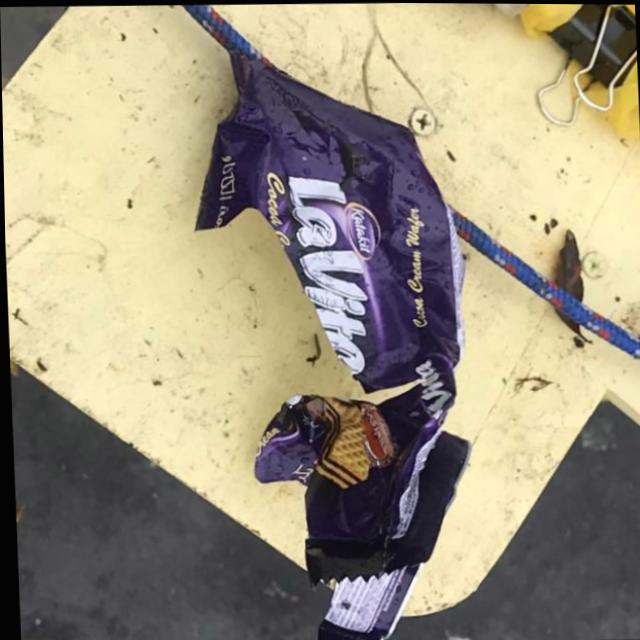Plastic: (182, 38, 482, 640)
